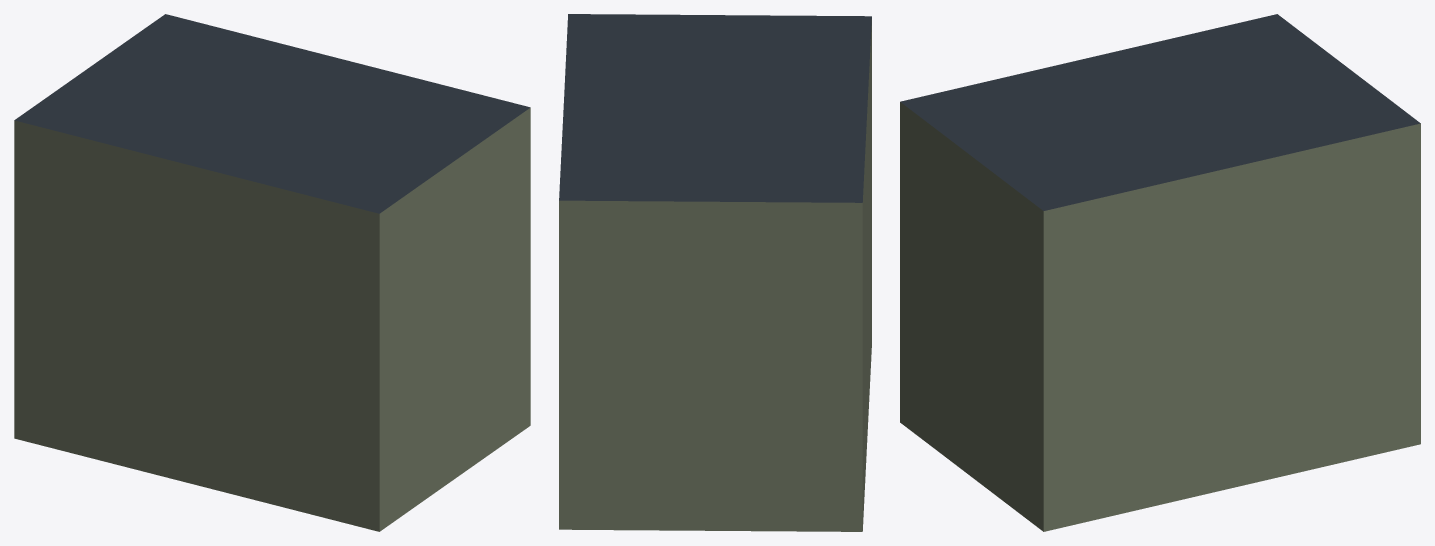
File: nyc-1015246-0.glb
3 views of the same model, side by side, from view 1: azimuth 30°, elevation 25°; view 2: azimuth 150°, elevation 25°; view 3: azimuth 270°, elevation 25° (orthographic). The views are drawn at different scales.
Visible parts, largest first — view 1: nyc-1015246-0; view 2: nyc-1015246-0; view 3: nyc-1015246-0.
Part boxes in pixels (x1,y1,x2,y2): nyc-1015246-0: (14, 14, 530, 531); nyc-1015246-0: (559, 14, 871, 531); nyc-1015246-0: (900, 14, 1420, 531).
Bounding box in the file's own units: 33.52 × 25.43 × 37.42.
